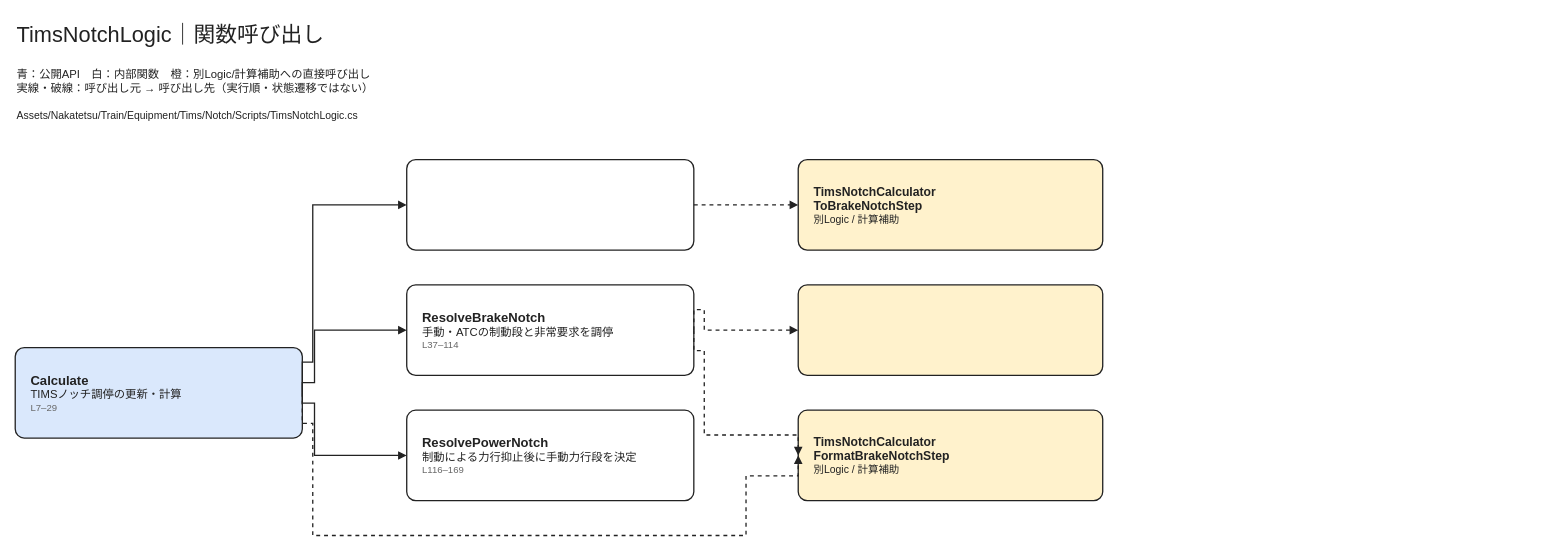
The diagram is 1553 pixels wide and 558 high, and some of its shapes have lost their labels. Each missing label, with the box of its shape:
Format Manual Brake Notch 手動制動段の表示文字列を生成 L31–35: (406, 159, 694, 250)
Tims Notch Calculator To Brake Step 別Logic / 計算補助: (797, 284, 1103, 376)
